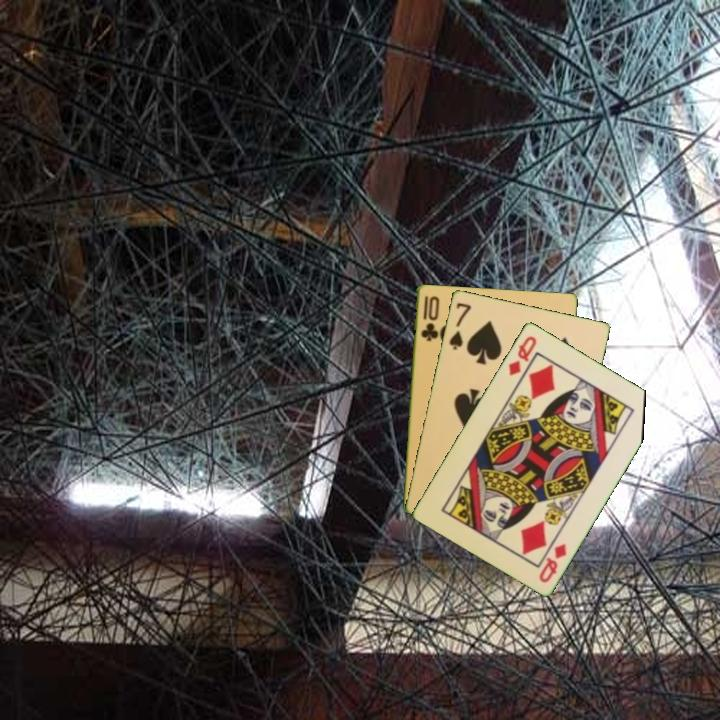10c: (417, 292, 441, 344)
7s: (445, 299, 474, 353)
Qd: (505, 332, 540, 379), (535, 539, 570, 585)
